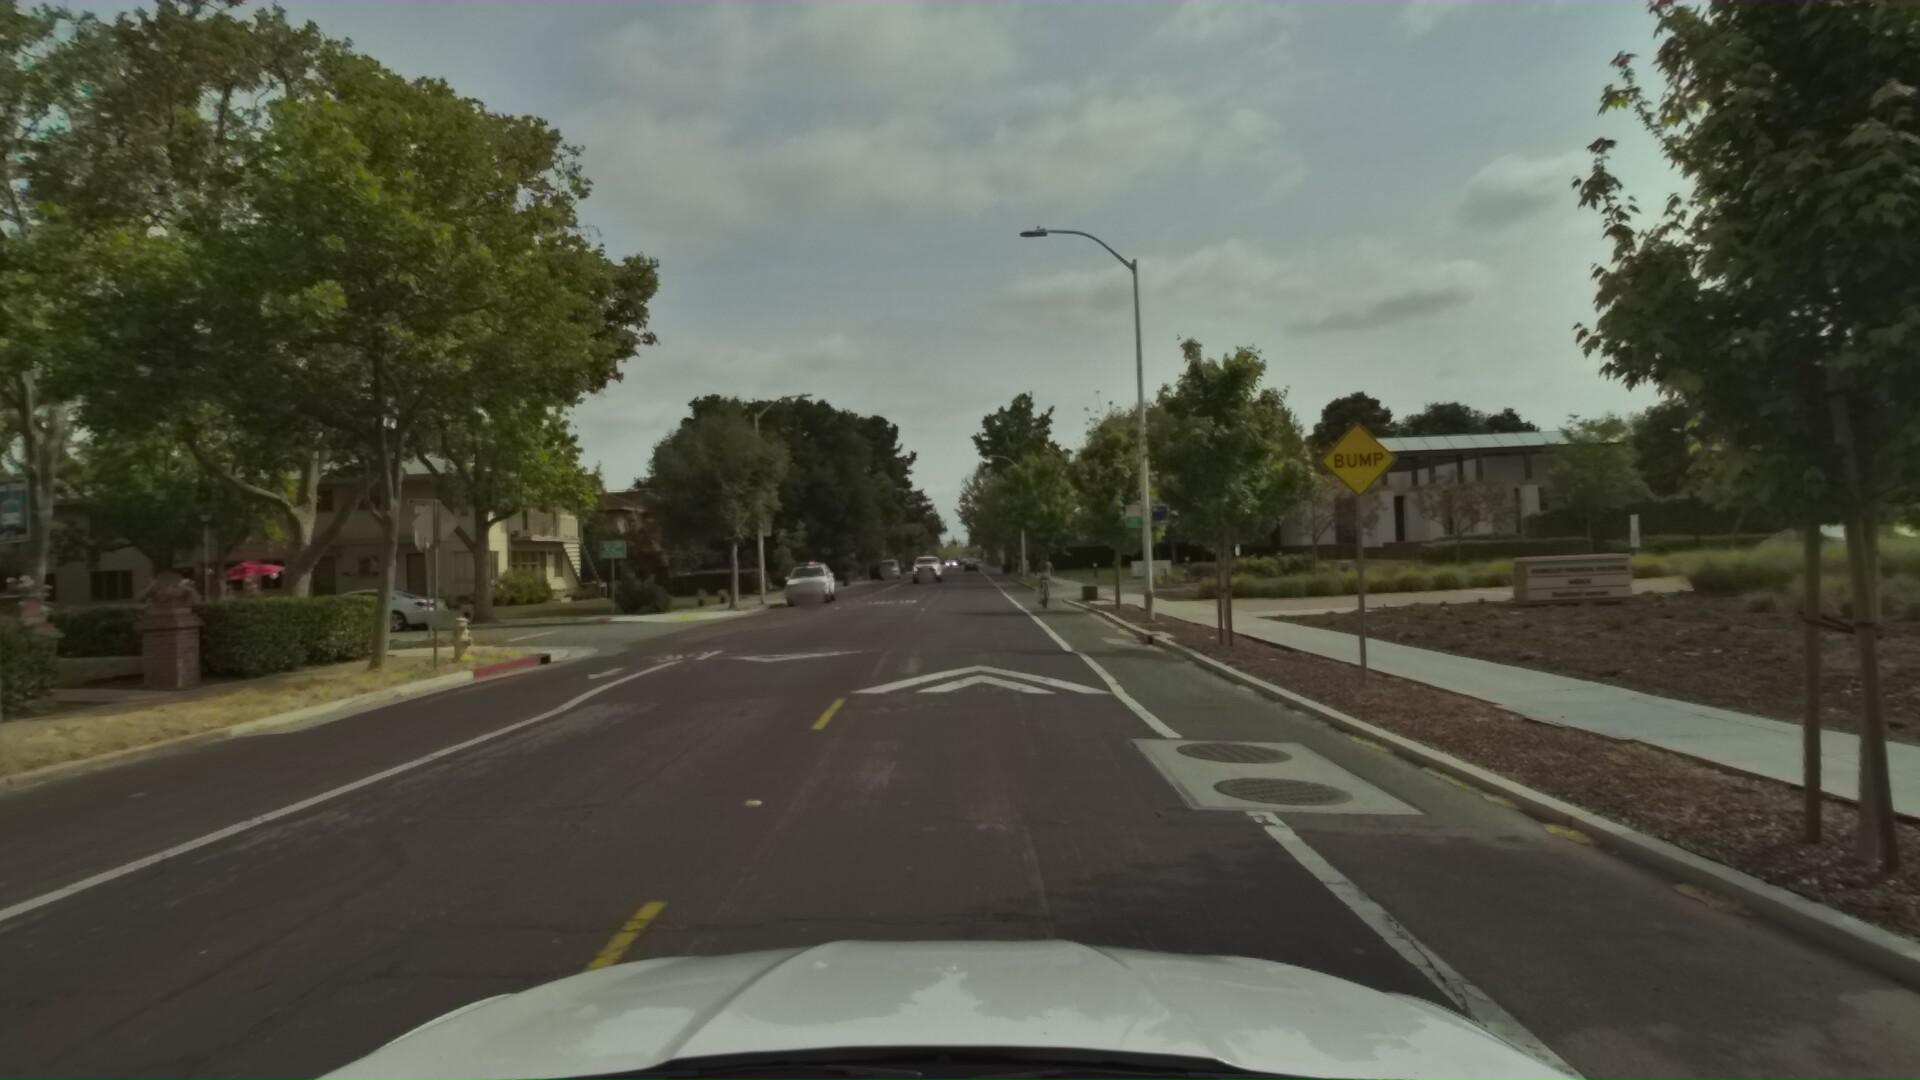bicycle: (1019, 547, 1062, 608)
car: (276, 583, 458, 640), (0, 596, 105, 653), (777, 556, 837, 608), (906, 549, 940, 584)
